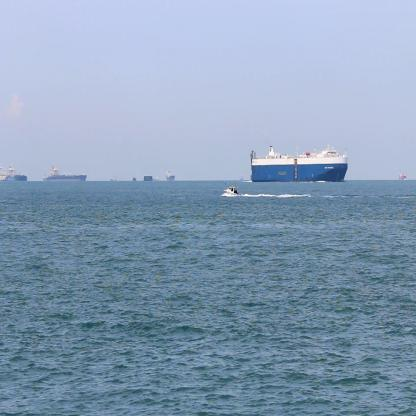Container Ship: (248, 142, 350, 186), (40, 162, 88, 184), (0, 165, 31, 184), (164, 168, 177, 184), (396, 168, 408, 185)
